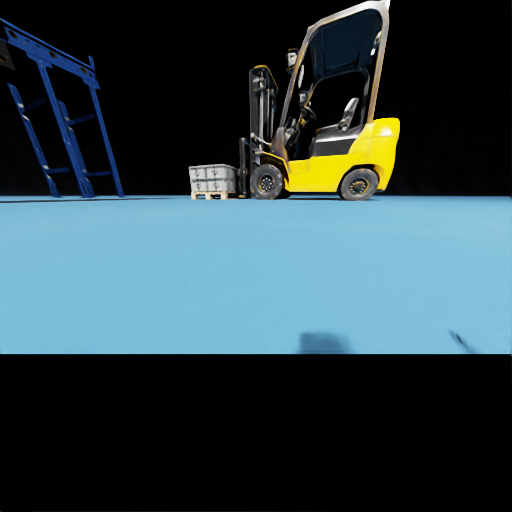transportation_area: (207, 178, 239, 191)
